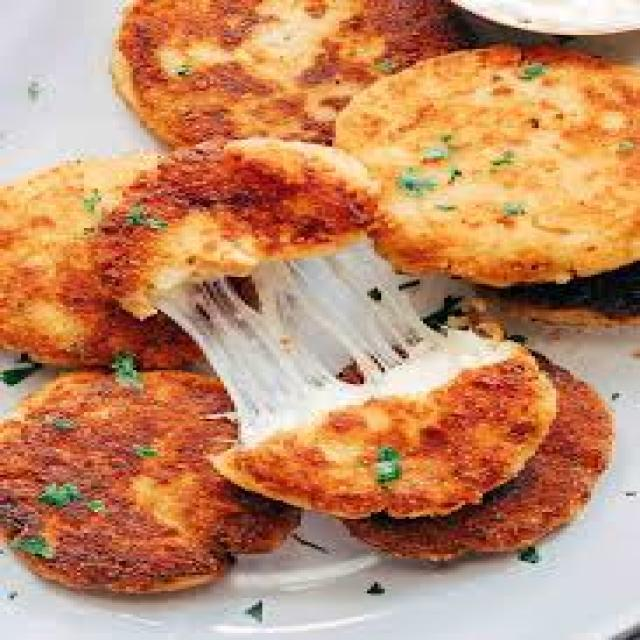BiologicalWaste: (6, 0, 640, 620)
